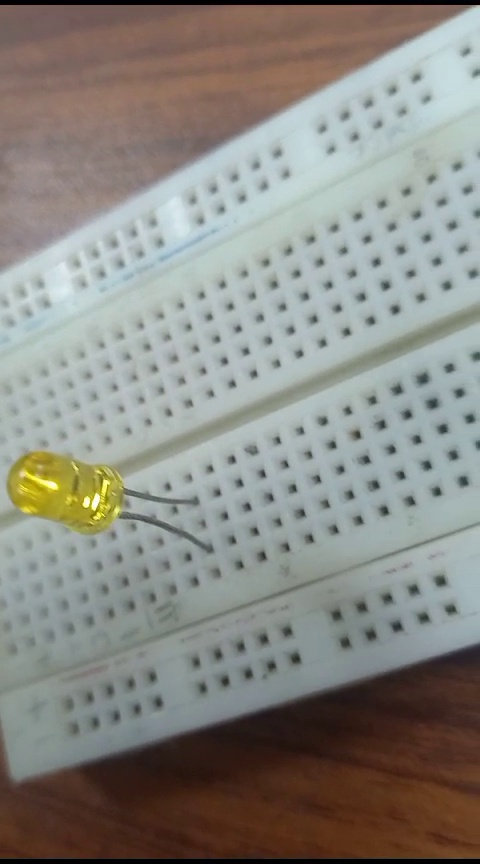LED: (7, 435, 218, 560)
